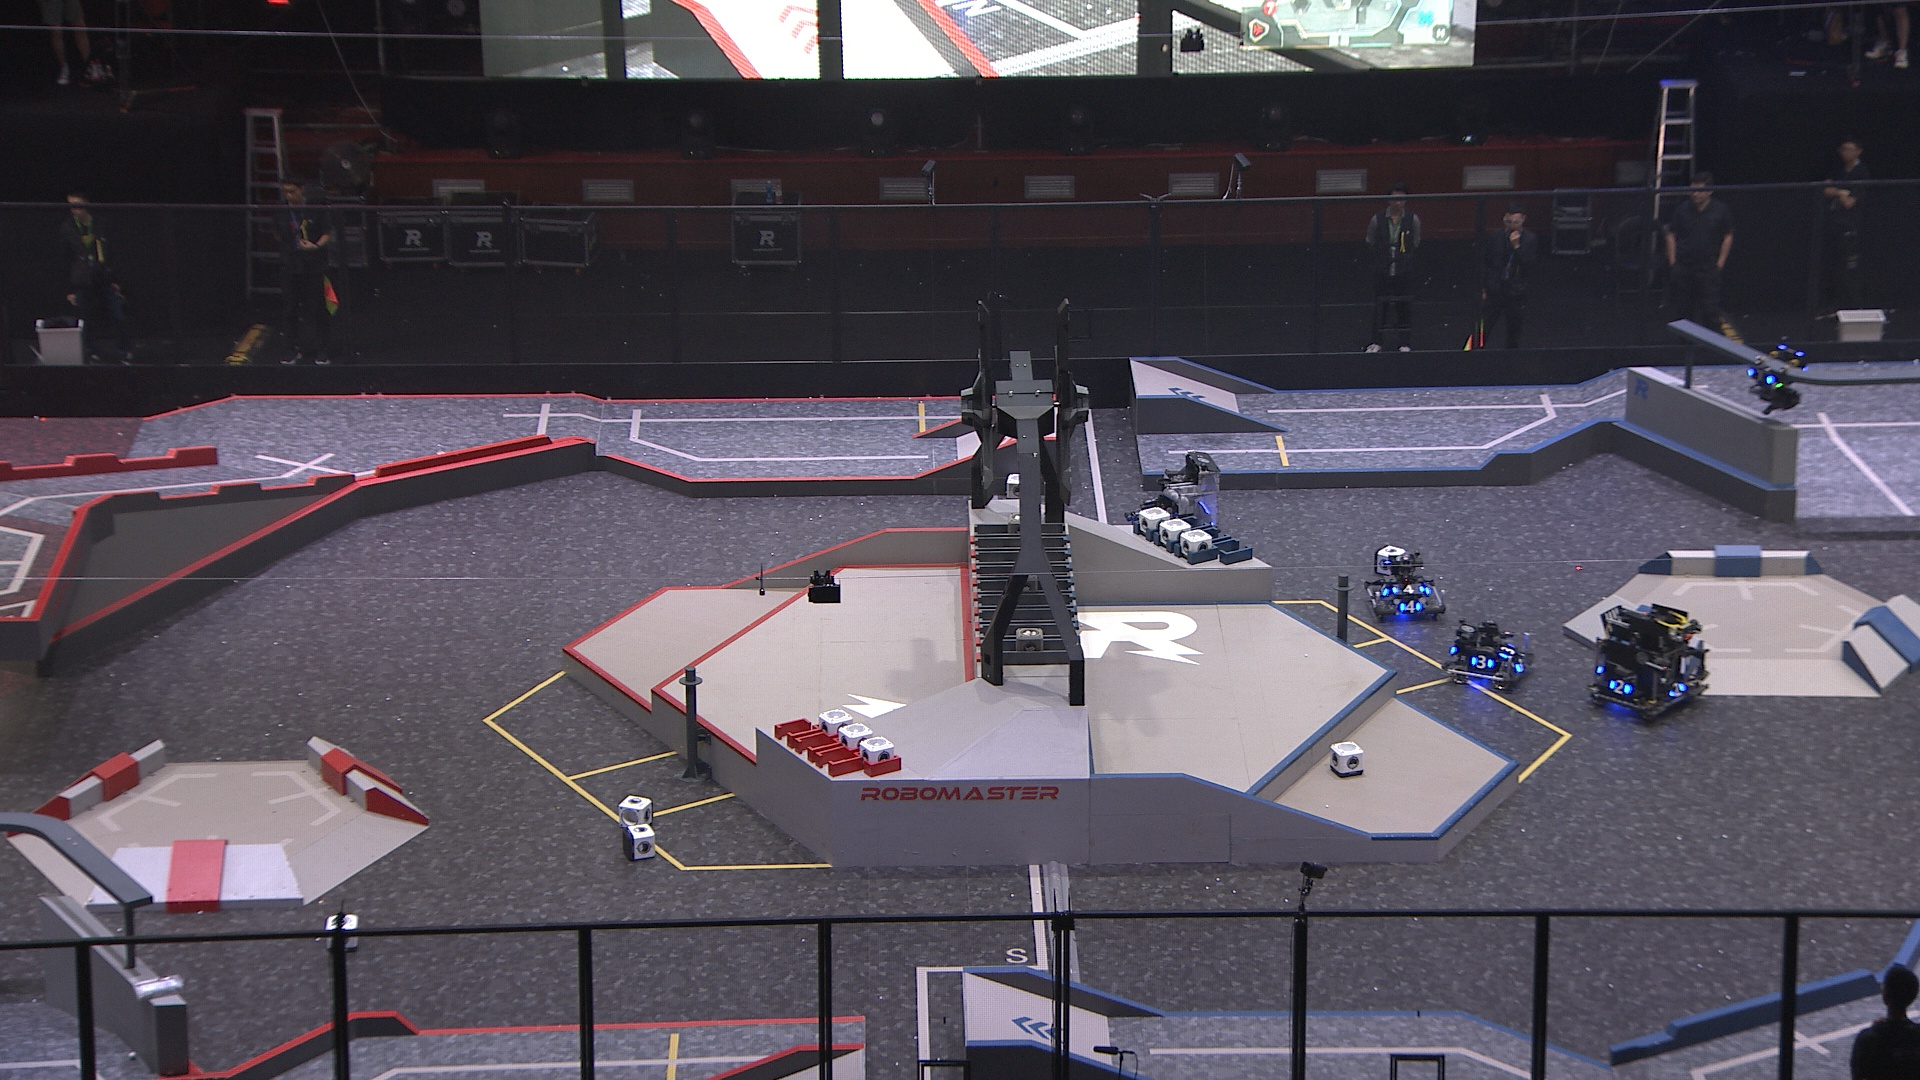armor: (1745, 363, 1778, 389), (1390, 580, 1428, 597), (1468, 651, 1495, 671), (1607, 678, 1633, 699), (1396, 597, 1425, 613), (1665, 680, 1688, 699), (1499, 640, 1518, 659), (1513, 651, 1528, 674), (1375, 579, 1391, 597)
car: (1585, 603, 1712, 717), (1124, 447, 1221, 549), (1441, 617, 1536, 694), (1361, 543, 1448, 624)
watcher: (1741, 330, 1809, 413)
